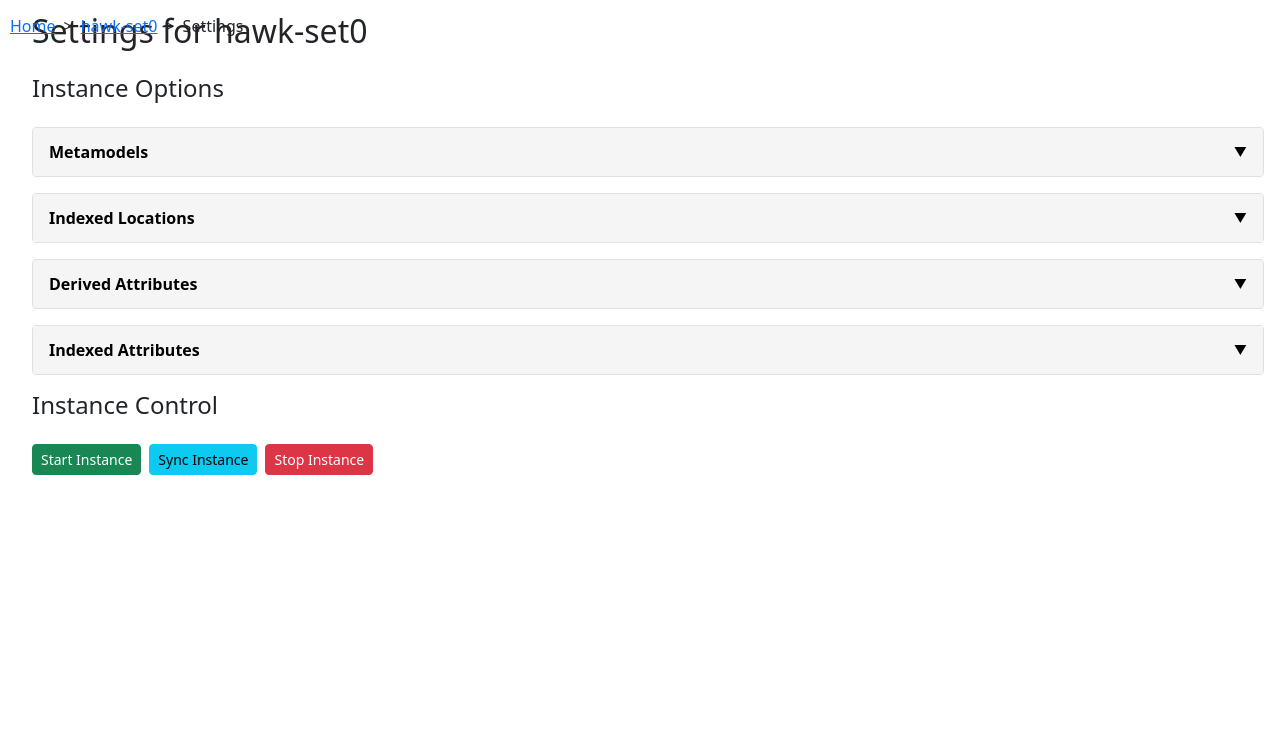
Scenario: SettingsContent › deletes derived attribute from the instance
The image size is (1280, 732).
Click the button "Derived Attributes ▼" at (123, 284), box [33, 260, 1263, 308]
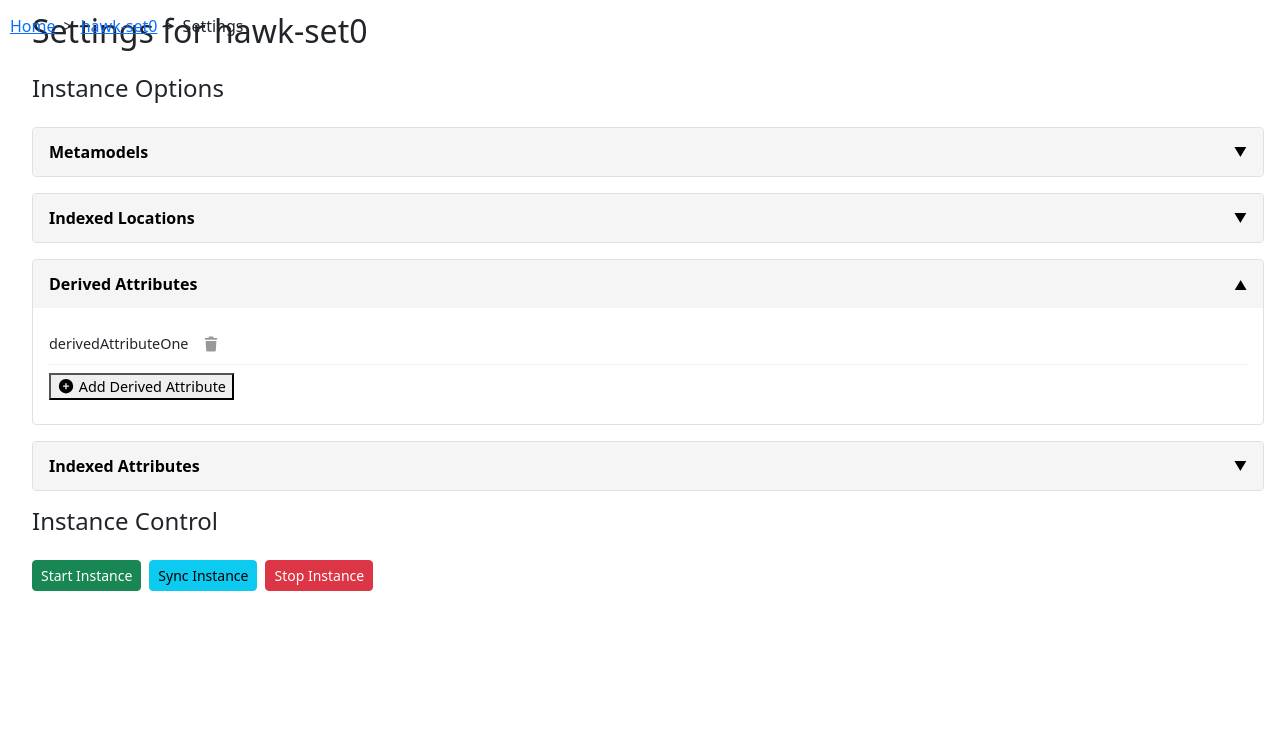
Expected: the text "derivedAttributeOne" is shown, [49, 334, 188, 353]
Expected: the button named "Delete Derived Attribute" is shown
Click the button named "Delete Derived Attribute" at (212, 344), box [196, 332, 226, 356]
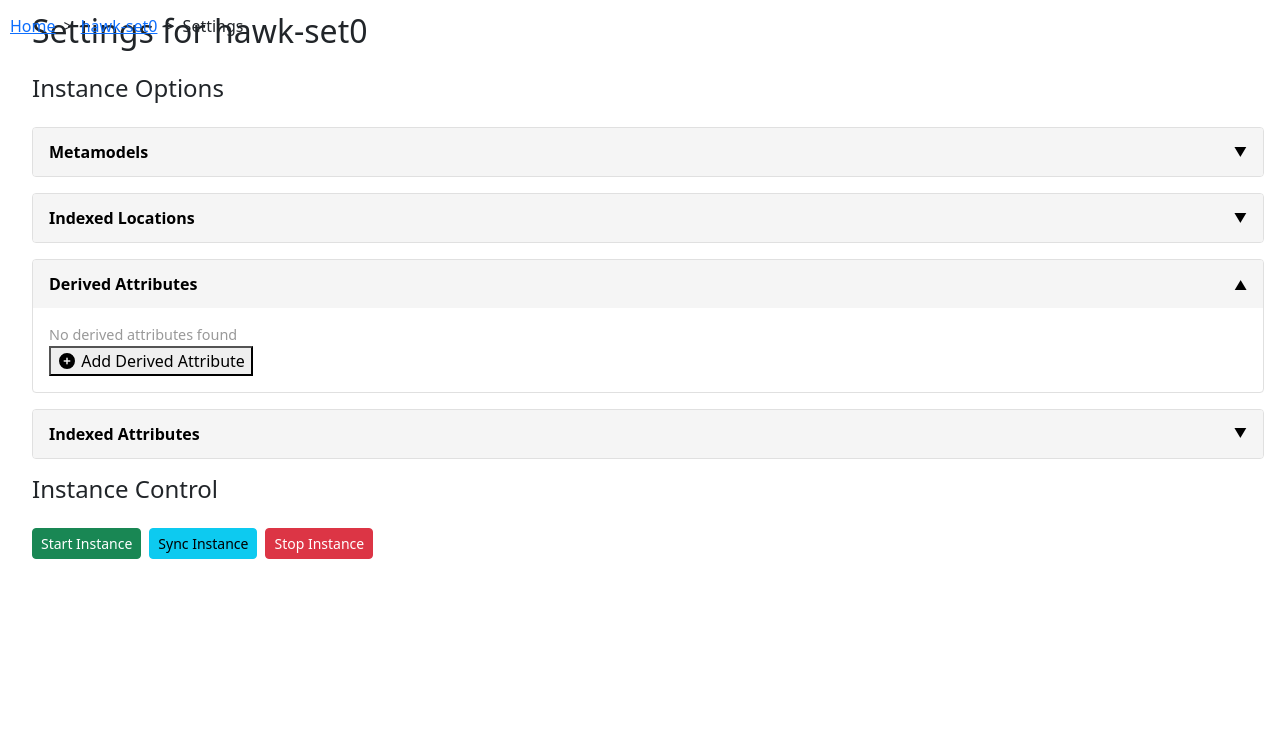
Expected: the text "No derived attributes found" is shown, [49, 325, 237, 344]
